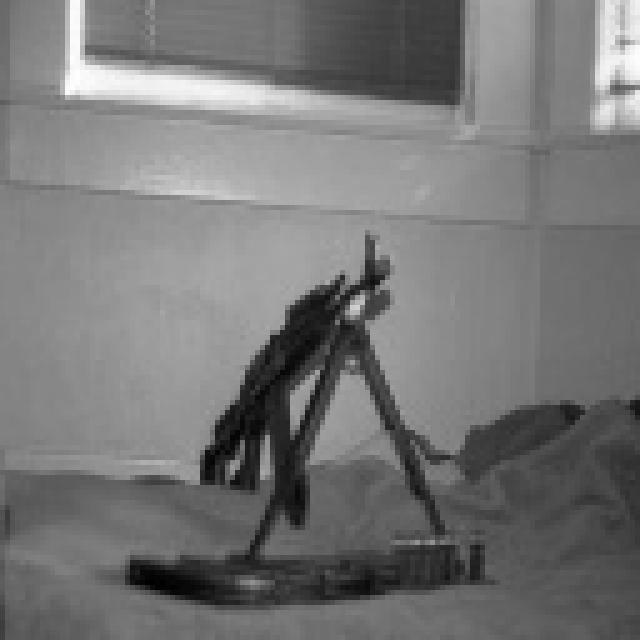Rifle: (106, 190, 520, 612)
